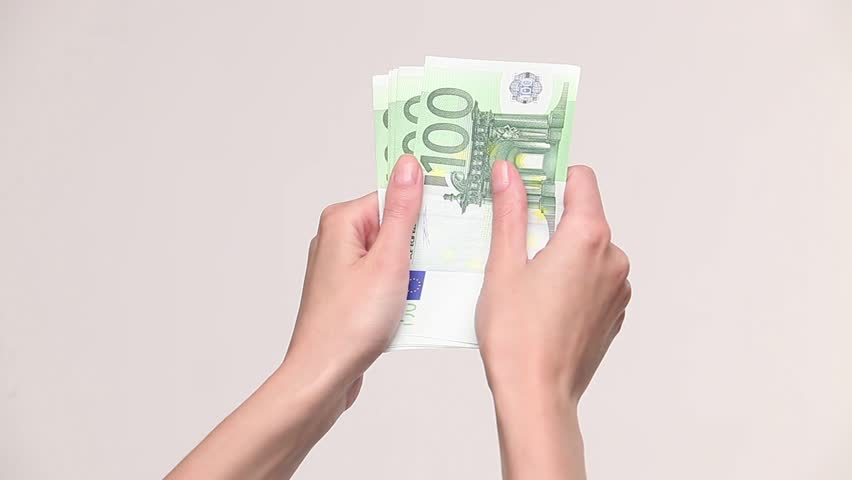billete: (370, 54, 582, 355)
